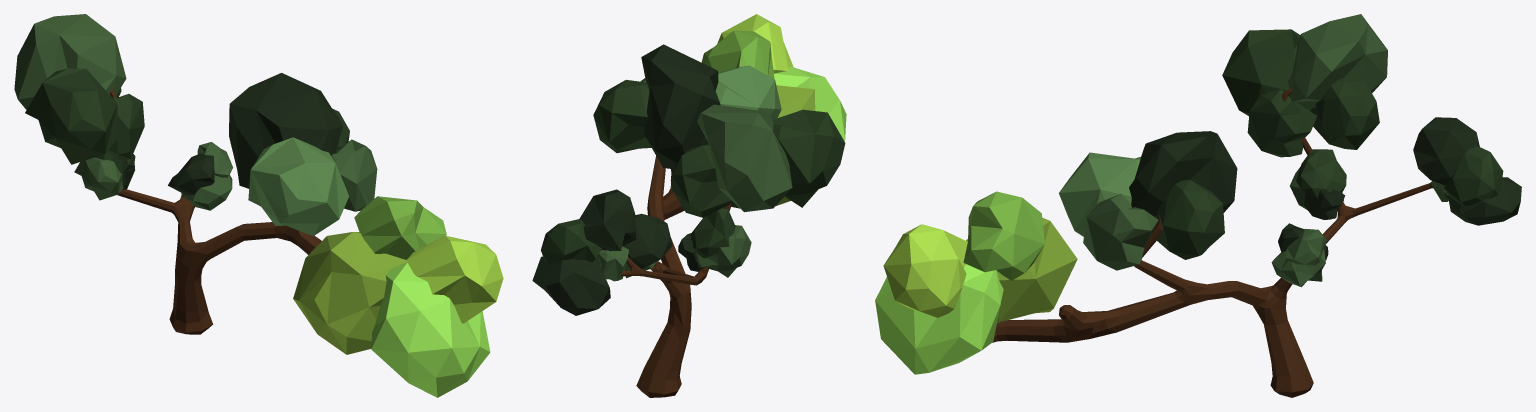
Rendered from Baum.fbx.
3 views of the same model, side by side, from view 1: azimuth 30°, elevation 25°; view 2: azimuth 150°, elevation 25°; view 3: azimuth 270°, elevation 25° (orthographic). The views are drawn at different scales.
Parts seen in each view (by area): view 1: Icosphere.021, Icosphere.020, Icosphere.011, Icosphere.012, Icosphere.007, Cube, Icosphere.006, Icosphere.018, Icosphere.019, Icosphere.013, Icosphere.005, Icosphere.009 (+3 smaller); view 2: Icosphere.007, Icosphere.011, Cube, Icosphere.006, Icosphere.014, Icosphere, Icosphere.004, Icosphere.001, Icosphere.012, Icosphere.019, Icosphere.003, Icosphere.021 (+7 smaller); view 3: Cube, Icosphere.021, Icosphere.007, Icosphere.011, Icosphere.018, Icosphere.019, Icosphere.006, Icosphere.020, Icosphere.014, Icosphere.013, Icosphere.012, Icosphere.004 (+8 smaller).
Part boxes in pixels (box(x1,y1,x2,y2)): Icosphere.021: box(371, 262, 490, 397); Icosphere.020: box(293, 232, 407, 354); Icosphere.011: box(229, 73, 342, 188); Icosphere.012: box(248, 137, 348, 236); Icosphere.007: box(14, 14, 126, 109); Cube: box(110, 89, 321, 334); Icosphere.006: box(25, 68, 117, 164); Icosphere.018: box(407, 235, 503, 323); Icosphere.019: box(354, 196, 446, 259); Icosphere.013: box(331, 139, 377, 211); Icosphere.005: box(107, 94, 144, 159); Icosphere.009: box(74, 157, 123, 200); Icosphere.007: box(697, 104, 792, 212); Icosphere.011: box(641, 44, 720, 169); Cube: box(621, 156, 732, 397); Icosphere.006: box(772, 109, 845, 207); Icosphere.014: box(593, 79, 651, 153); Icosphere: box(532, 256, 610, 315); Icosphere.004: box(672, 144, 733, 217); Icosphere.001: box(579, 189, 636, 251); Icosphere.012: box(715, 65, 781, 119); Icosphere.019: box(701, 30, 774, 78); Icosphere.003: box(541, 219, 601, 264); Icosphere.021: box(774, 66, 846, 140); Cube: box(992, 88, 1432, 397); Icosphere.021: box(875, 264, 1003, 374); Icosphere.007: box(1287, 14, 1387, 111); Icosphere.011: box(1129, 131, 1237, 216); Icosphere.018: box(883, 224, 967, 317); Icosphere.019: box(963, 191, 1044, 280); Icosphere.006: box(1222, 29, 1300, 115); Icosphere.020: box(966, 218, 1077, 322); Icosphere.014: box(1155, 179, 1224, 259); Icosphere.013: box(1083, 193, 1158, 270); Icosphere.012: box(1059, 152, 1140, 236); Icosphere.004: box(1310, 78, 1379, 149).
Size of the model in its own units: 292 by 309 by 570.
